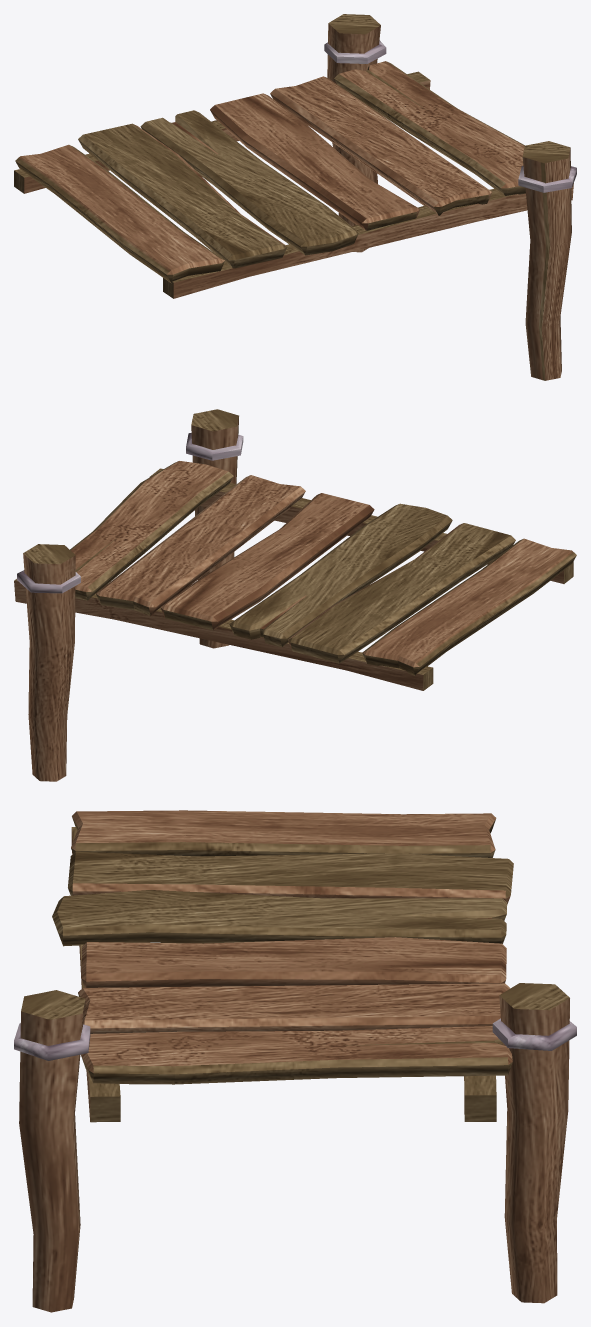
Rendered from s0_Str_Dock_01_Art_01.glb.
3 renders of one model, top to bottom at view 1: azimuth 30°, elevation 25°; view 2: azimuth 150°, elevation 25°; view 3: azimuth 270°, elevation 25°, orthographic. The views are drawn at different scales.
Parts seen in each view (by area): view 1: node_Str_Dock_01_Art; view 2: node_Str_Dock_01_Art; view 3: node_Str_Dock_01_Art.
Part boxes in pixels (x1=…): node_Str_Dock_01_Art: x1=14, y1=14, x2=576, y2=380; node_Str_Dock_01_Art: x1=14, y1=409, x2=576, y2=781; node_Str_Dock_01_Art: x1=14, y1=810, x2=576, y2=1312.
Size of what is drawn, in the model's own units: 4.63 by 2.37 by 4.05.
2 materials, 2 textured.
